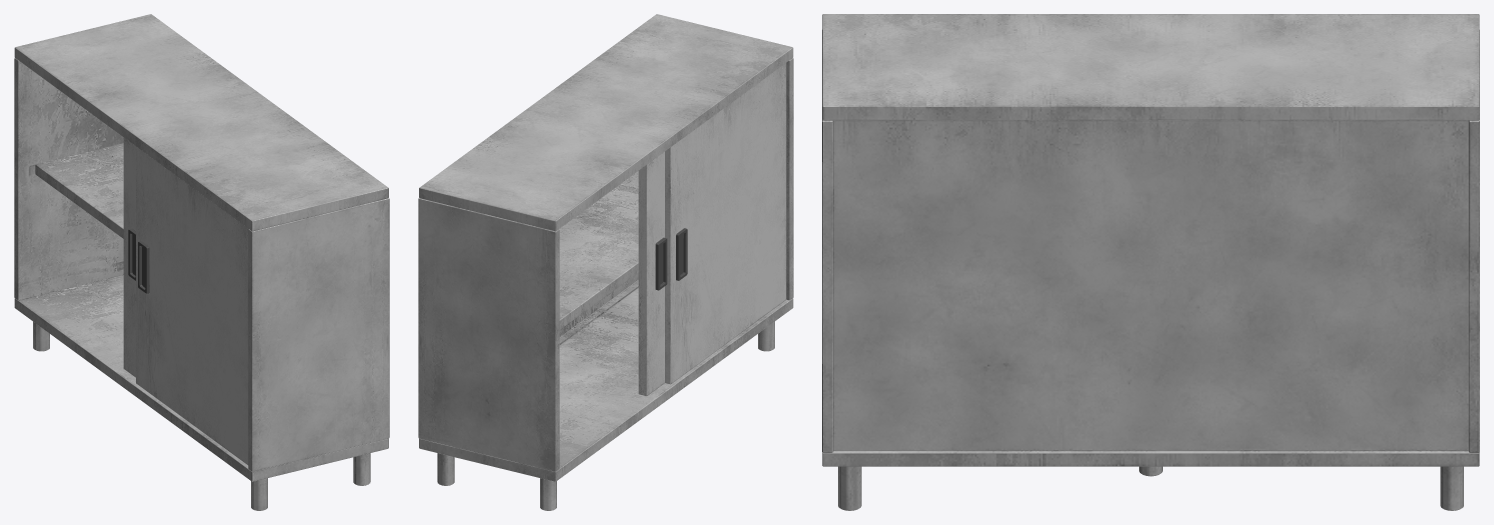
The model's file is SM_CabinetSteel_01_Narrow_Open.fbx.
The picture shows the model from 3 angles, left to right: view 1: azimuth 30°, elevation 25°; view 2: azimuth 150°, elevation 25°; view 3: azimuth 270°, elevation 25°; orthographic projection. The views are drawn at different scales.
Visible parts, largest first — view 1: SM_CabinetSteel_01_Narrow_Open_LOD0; view 2: SM_CabinetSteel_01_Narrow_Open_LOD0; view 3: SM_CabinetSteel_01_Narrow_Open_LOD0.
Boxes of the visible parts, left/top/right/bottom form: SM_CabinetSteel_01_Narrow_Open_LOD0: left=14, top=14, right=389, bottom=510; SM_CabinetSteel_01_Narrow_Open_LOD0: left=418, top=14, right=793, bottom=510; SM_CabinetSteel_01_Narrow_Open_LOD0: left=822, top=14, right=1479, bottom=510.
Size of the model in its own units: 40.13 by 120 by 83.
1 material, 1 textured.
